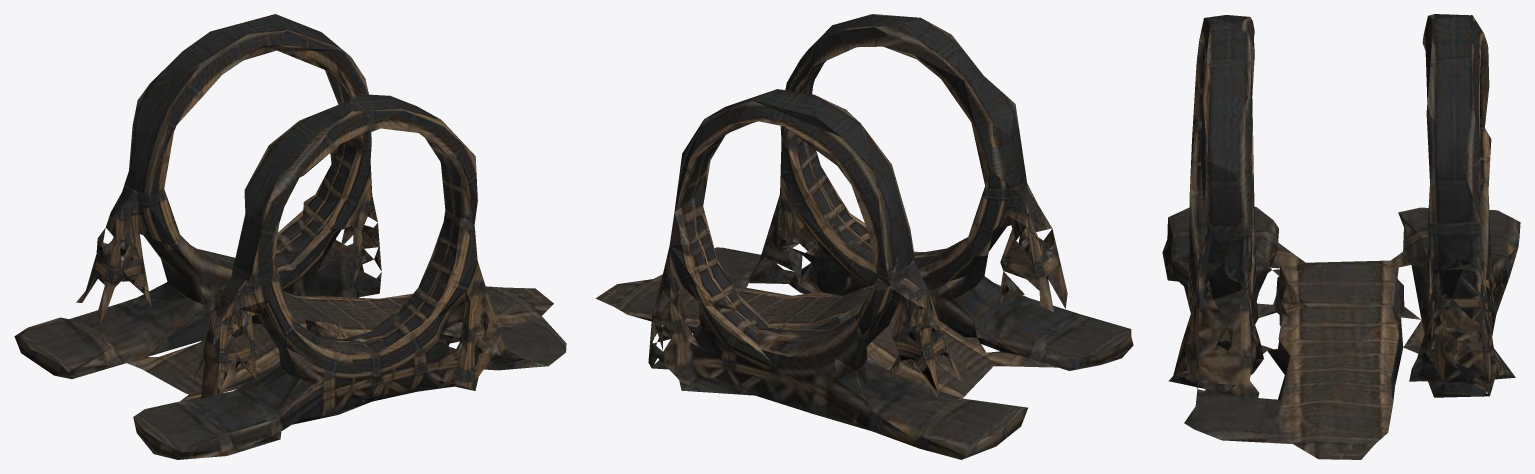
The model's file is stunt-double-loop.lod.glb.
3 views of the same model, side by side, from view 1: azimuth 30°, elevation 25°; view 2: azimuth 150°, elevation 25°; view 3: azimuth 270°, elevation 25° (orthographic). The views are drawn at different scales.
Visible parts, largest first — view 1: output_unwrapped; view 2: output_unwrapped; view 3: output_unwrapped.
Boxes of the visible parts, x1=… form: output_unwrapped: x1=14, y1=14, x2=566, y2=459; output_unwrapped: x1=595, y1=14, x2=1133, y2=459; output_unwrapped: x1=1162, y1=14, x2=1520, y2=459.
Bounding box in the file's own units: 1.76 × 1.08 × 1.12.
1 material, 1 textured.
